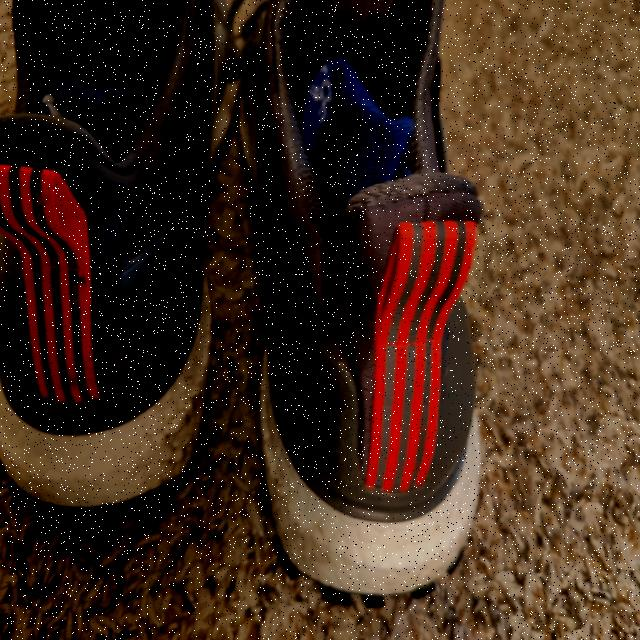black shoes: (0, 0, 482, 576)
